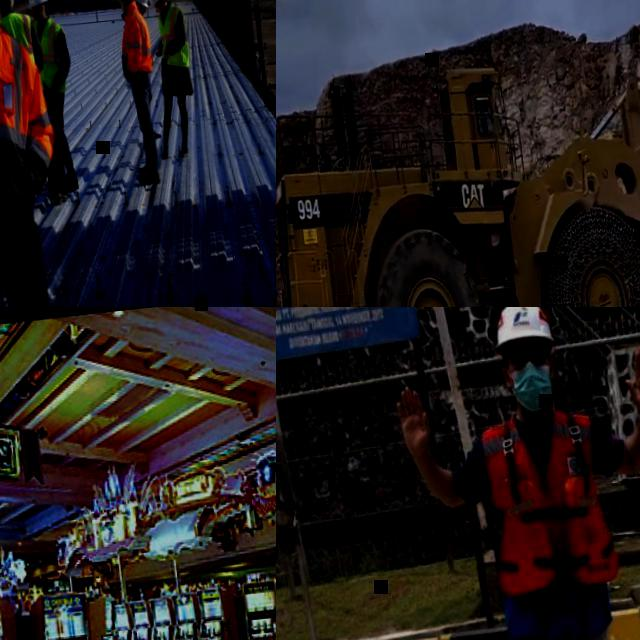helmet: (488, 307, 553, 345), (26, 0, 51, 9), (134, 0, 150, 10), (144, 0, 168, 6)
machinery: (276, 15, 640, 307)
mask: (506, 359, 556, 415)
no_mask: (32, 10, 43, 22), (157, 5, 165, 14), (139, 6, 146, 15), (120, 0, 127, 9)
person: (378, 307, 640, 640), (0, 0, 87, 307), (0, 0, 66, 204), (25, 0, 85, 195), (112, 0, 165, 183), (142, 0, 200, 157), (134, 0, 164, 138), (475, 108, 483, 136)
vest: (478, 404, 623, 601), (0, 0, 66, 236), (114, 1, 154, 84), (31, 14, 68, 93), (0, 9, 41, 64), (156, 4, 190, 68)
